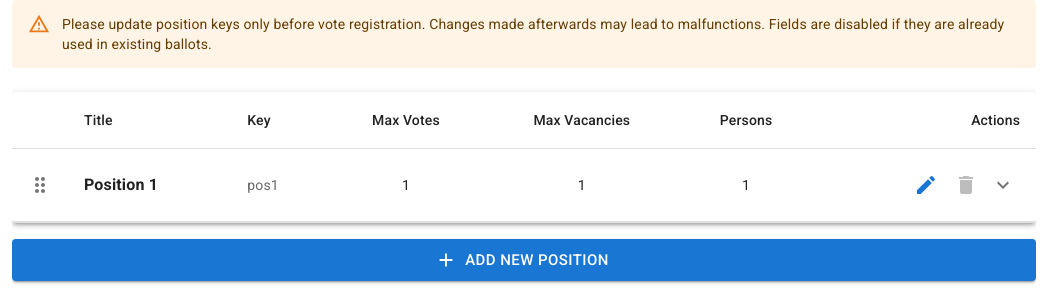
Positions › disables delete and key editing if position is used
This screenshot has width=1048, height=301.
Expected: the button named "Delete Position" is disabled, x1=946 y1=165 x2=986 y2=205
Click the button named "Edit Position" at x=926, y=185, box x1=906 y1=165 x2=946 y2=205
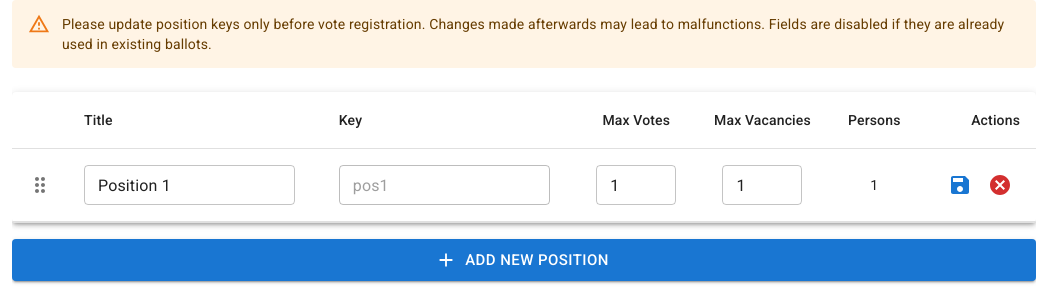
Now the field with placeholder "Key" is disabled, box x1=339 y1=165 x2=550 y2=205
